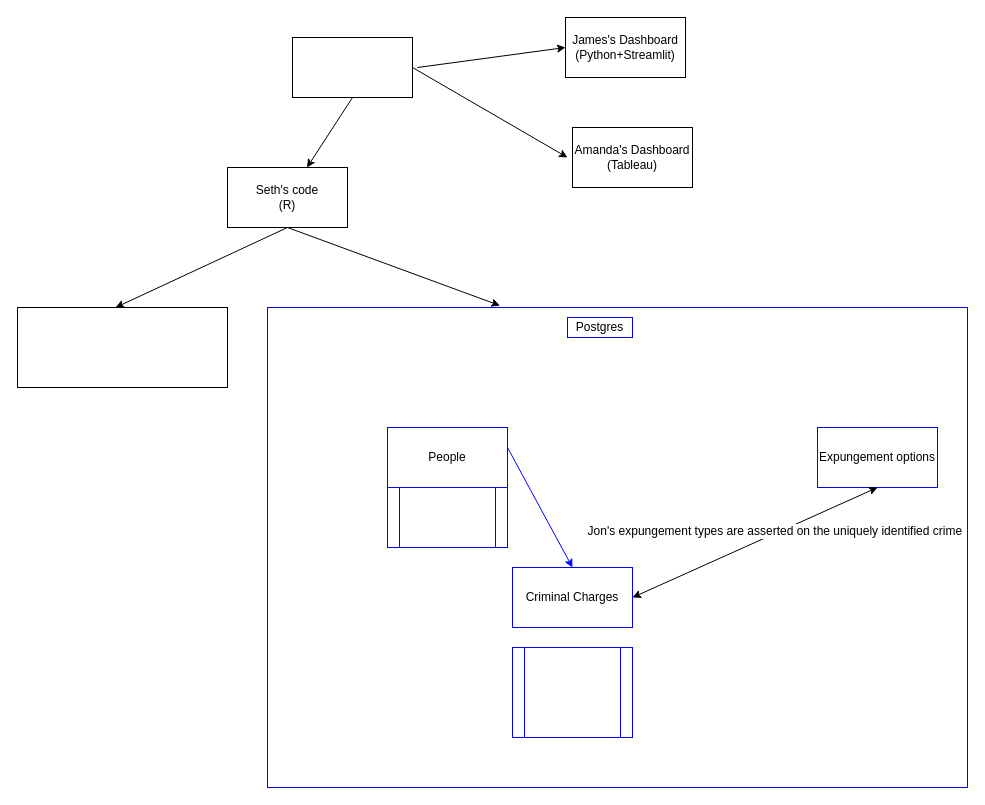
This 985x805 diagram has some shape labels left out. Each missing label, with the centre of its shape:
Ben's Data: pixel 352 67
CSV files: pixel 122 347
in database now: Charge Code Dates Outcome (time in jail, probation fines): pixel 572 692
In database now: Demographics: pixel 447 517
